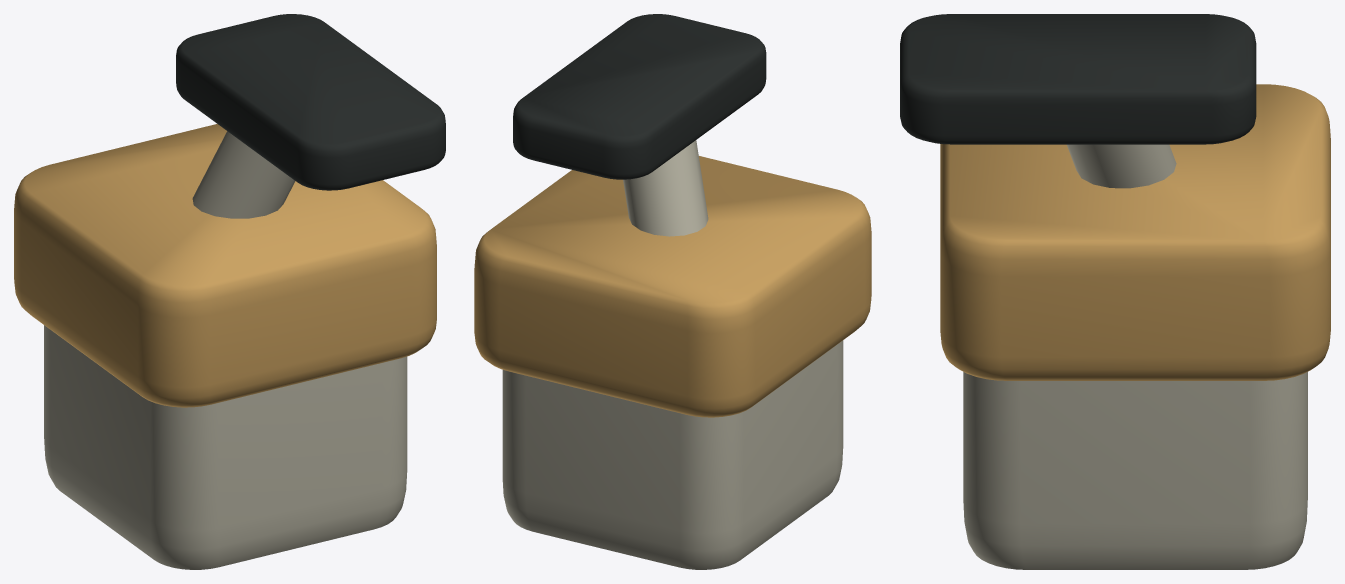
The model's file is Metropolitan.glb.
3 renders of one model, left to right at view 1: azimuth 30°, elevation 25°; view 2: azimuth 150°, elevation 25°; view 3: azimuth 270°, elevation 25°, orthographic. The views are drawn at different scales.
Parts seen in each view (by area): view 1: Stop thumb, Stop clamp, Cam paddle, Cam lock; view 2: Stop thumb, Stop clamp, Cam paddle, Cam lock; view 3: Stop thumb, Stop clamp, Cam paddle, Cam lock.
Part boxes in pixels (x1,y1,x2,y2): Stop thumb: [14, 124, 436, 407]; Stop clamp: [44, 325, 407, 569]; Cam paddle: [176, 14, 445, 190]; Cam lock: [192, 131, 295, 218]; Stop thumb: [474, 156, 871, 417]; Stop clamp: [502, 340, 843, 569]; Cam paddle: [513, 14, 766, 179]; Cam lock: [623, 140, 708, 236]; Stop thumb: [940, 84, 1330, 380]; Stop clamp: [963, 372, 1307, 569]; Cam paddle: [900, 14, 1256, 144]; Cam lock: [1067, 144, 1176, 188].
Size of the model in its own units: 0.1693 by 0.233 by 0.1875.
